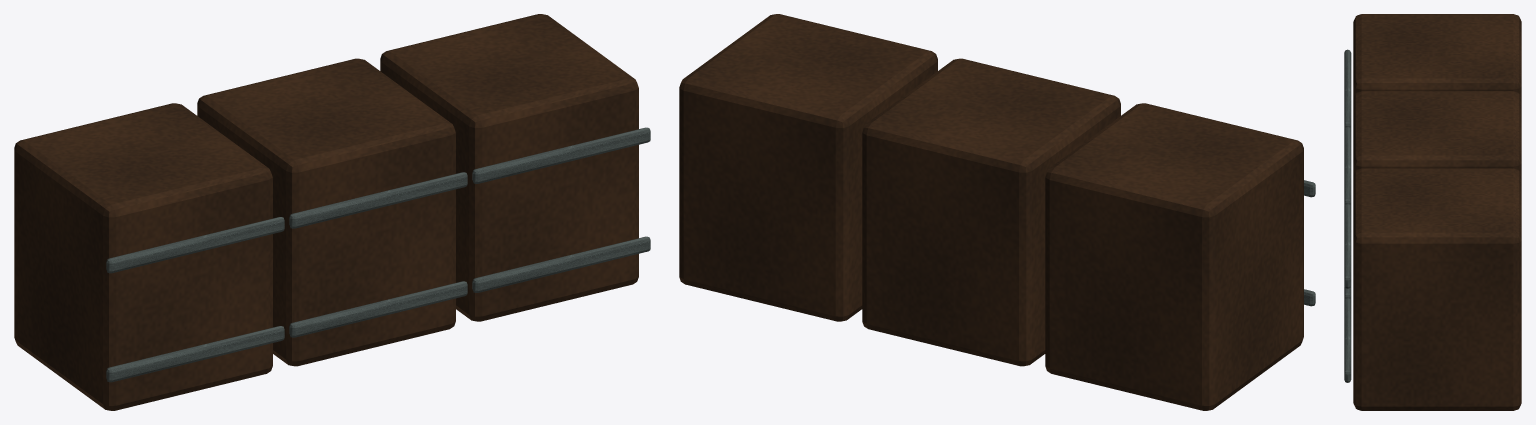
The model's file is crates.glb.
3 views of the same model, side by side, from view 1: azimuth 30°, elevation 25°; view 2: azimuth 150°, elevation 25°; view 3: azimuth 270°, elevation 25° (orthographic). The views are drawn at different scales.
Visible parts, largest first — view 1: Supply crate.003, Crate iron strap.006; view 2: Supply crate.003; view 3: Supply crate.003, Crate iron strap.006.
Part boxes in pixels (<box>): Supply crate.003: <box>14,14,638,410</box>; Crate iron strap.006: <box>106,127,650,382</box>; Supply crate.003: <box>679,14,1303,410</box>; Supply crate.003: <box>1353,14,1521,410</box>; Crate iron strap.006: <box>1344,49,1351,382</box>.
Size of the model in its own units: 1.93 by 0.7 by 0.6325.
Materials: 2 (2 with a texture image).
